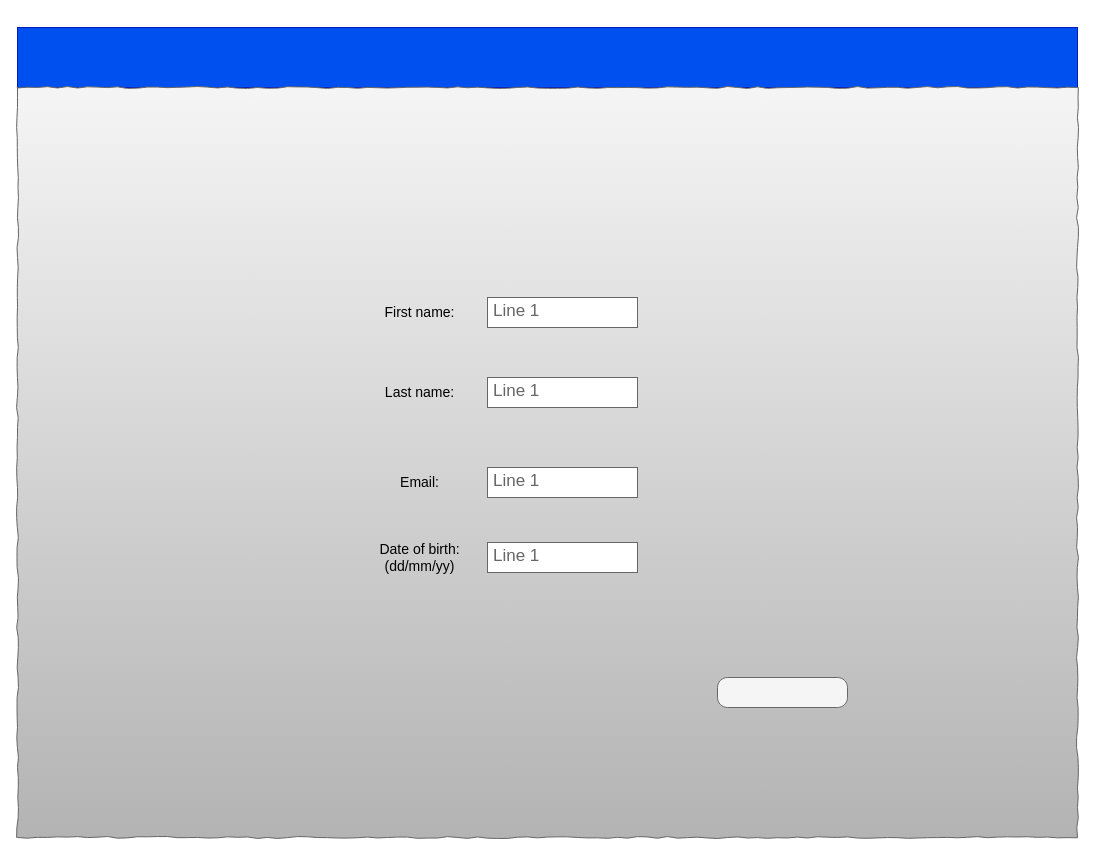
This 1095x855 diagram has some shape labels left out. The box of each missing label's shape, as (x1, y1, x2, y2) in pixels:
Next: (716, 676, 848, 708)
User Entry Wizard - Please enter your information: (16, 26, 1078, 88)
